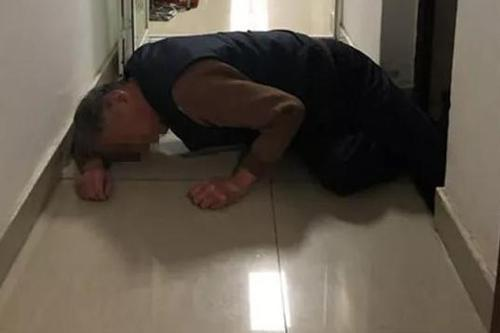Fall-Detected: (51, 13, 453, 218)
